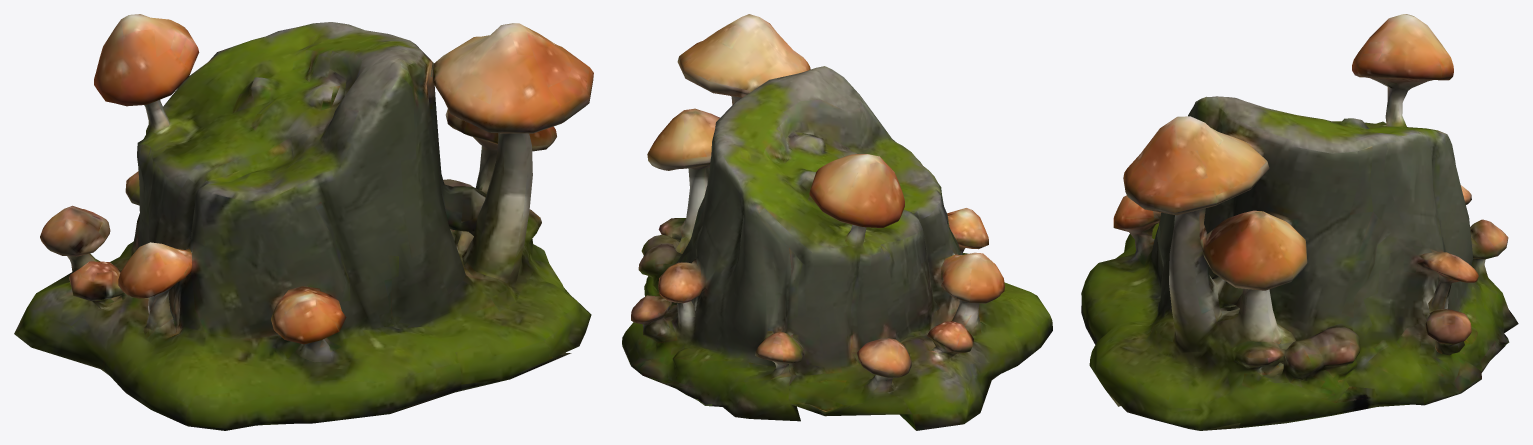
The picture shows the model from 3 angles, left to right: view 1: azimuth 30°, elevation 25°; view 2: azimuth 150°, elevation 25°; view 3: azimuth 270°, elevation 25°; orthographic projection. The views are drawn at different scales.
Visible parts, largest first — view 1: Mesh0; view 2: Mesh0; view 3: Mesh0.
Part boxes in pixels (box(x1,y1,x2,y2)): Mesh0: box(14, 14, 593, 430); Mesh0: box(622, 14, 1052, 430); Mesh0: box(1081, 14, 1518, 430).
Size of the model in its own units: 1.98 by 1.27 by 1.8.
1 material, 1 textured.
